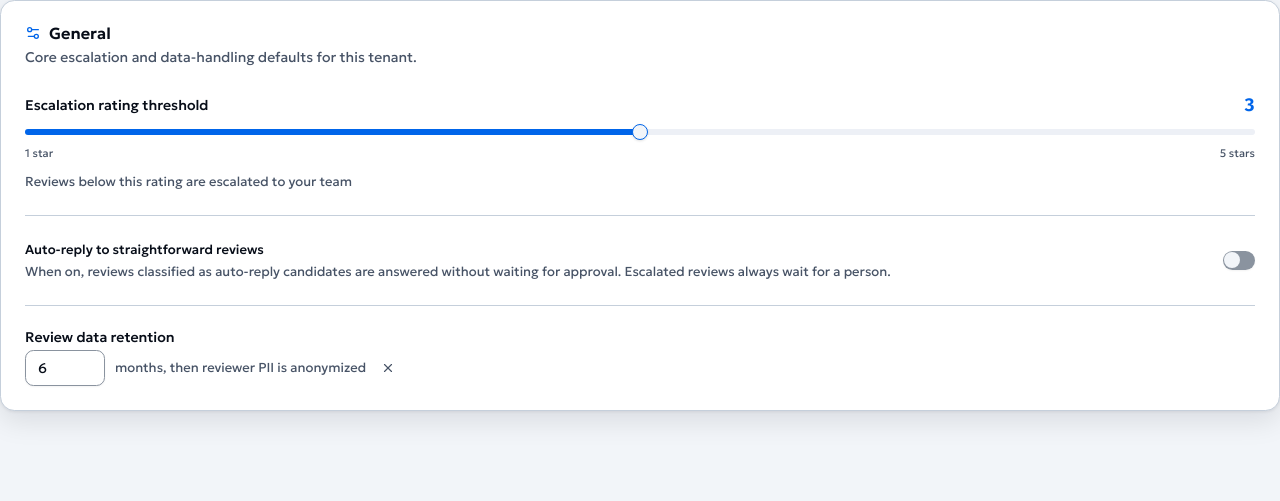
Test case: GeneralSettingsSection — retention unit › names the unit for 1
Replace the text in the number field labelled "Review data retention" with "1" at (65, 368), box [25, 350, 105, 386]
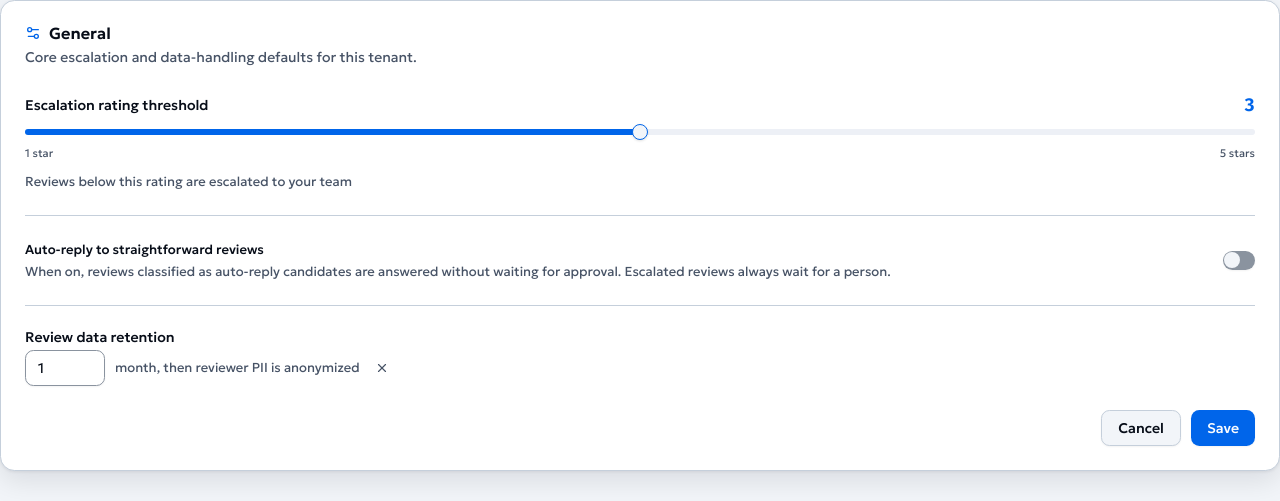
Now the text "month, then reviewer PII is anonymized" is shown, box [115, 358, 360, 378]
